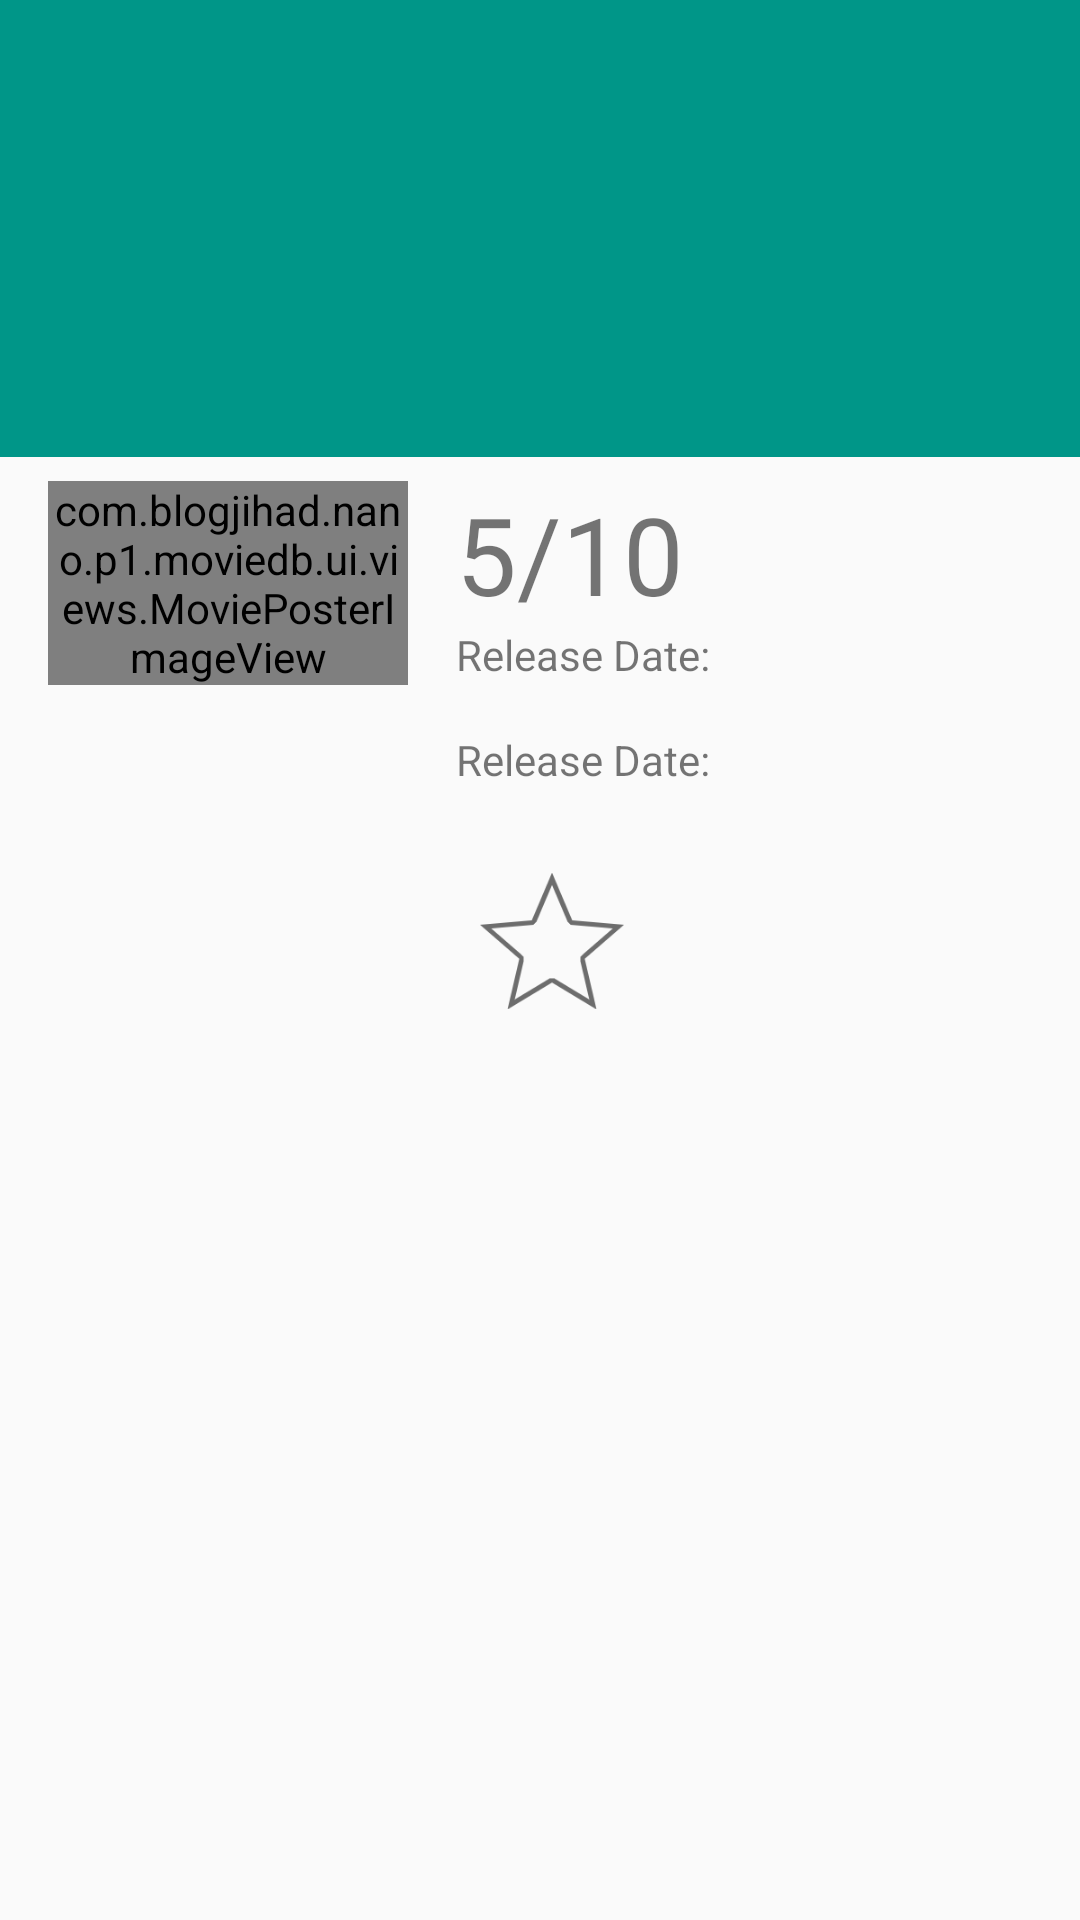

Named icons in this screenshot (1080×1920) and their centers, (x,y):
favorite: (552,941)
